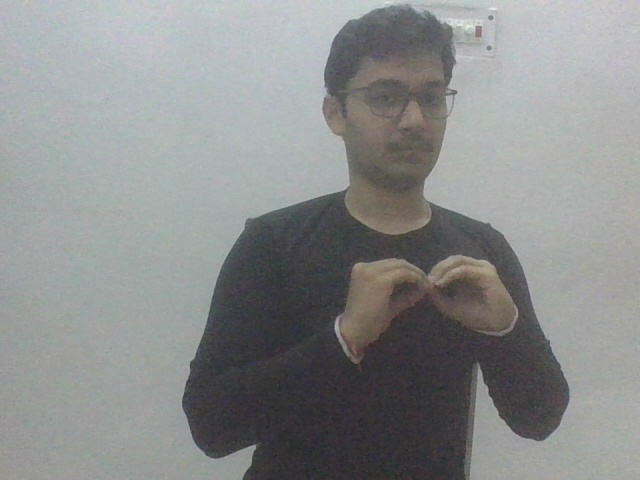B: (333, 248, 526, 348)
